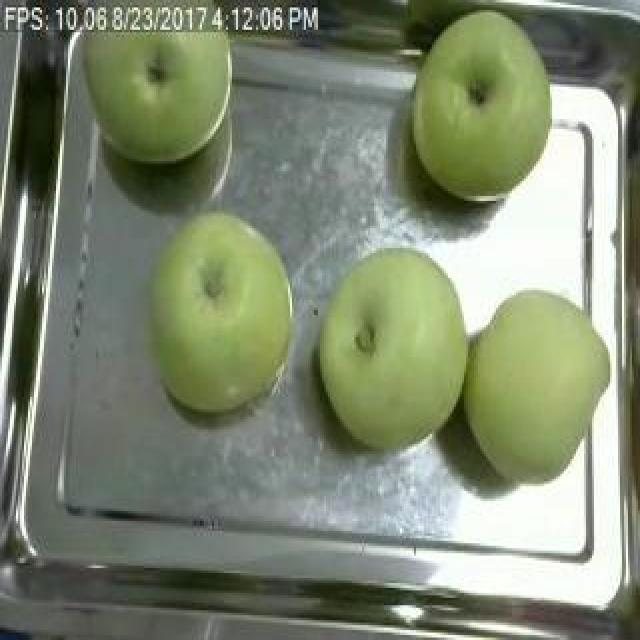Rotten Apple: (456, 264, 616, 492), (137, 206, 295, 427), (331, 244, 465, 465), (406, 11, 556, 202), (79, 0, 241, 169)
